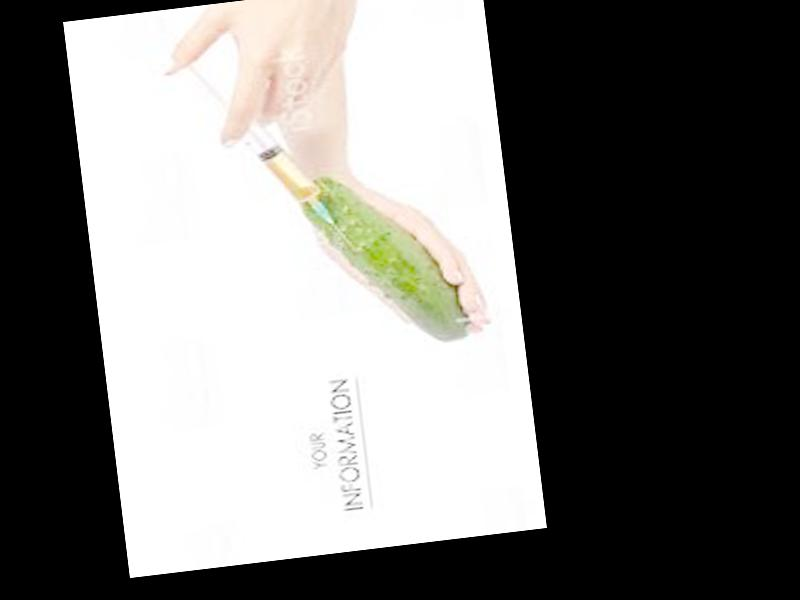Cucumber: (294, 163, 468, 356)
